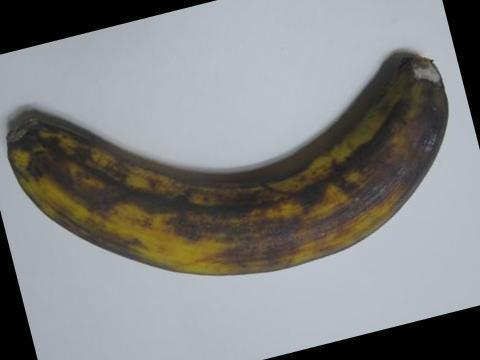overripe: (0, 44, 459, 298)
rotten: (386, 44, 455, 131)
